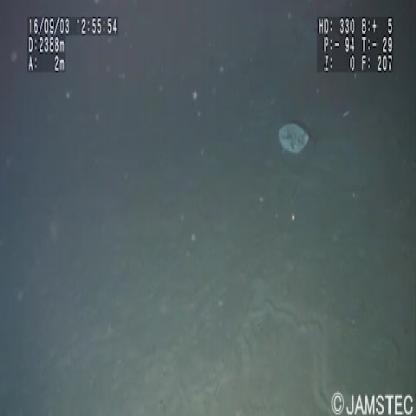Rác: (274, 116, 317, 166)
